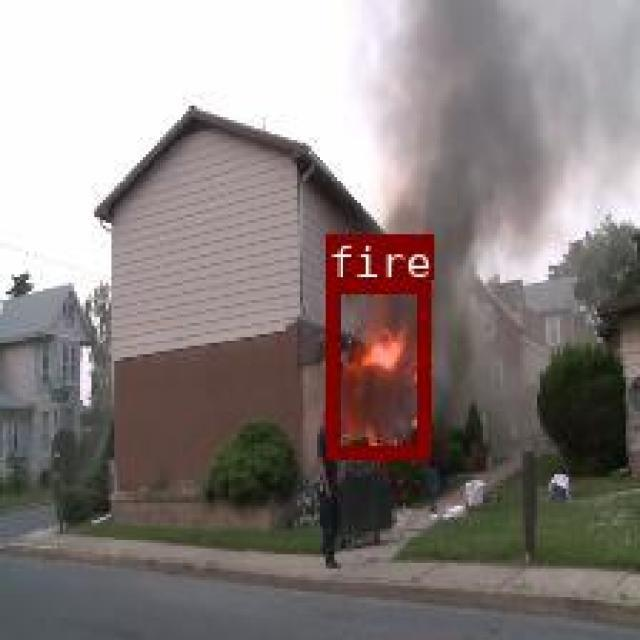fire: (326, 278, 428, 457)
